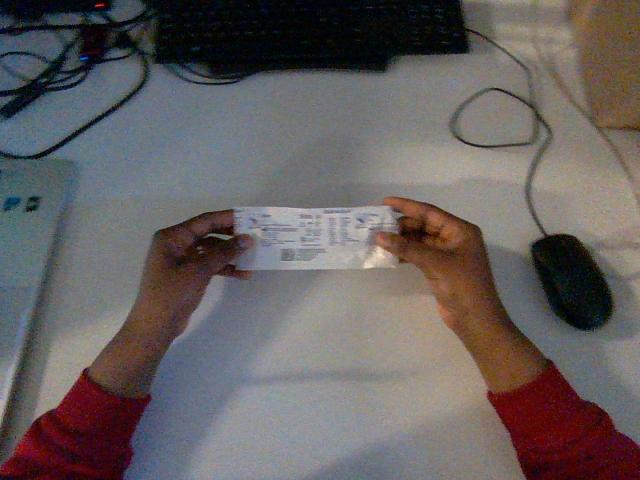syringe: (234, 206, 397, 269)
